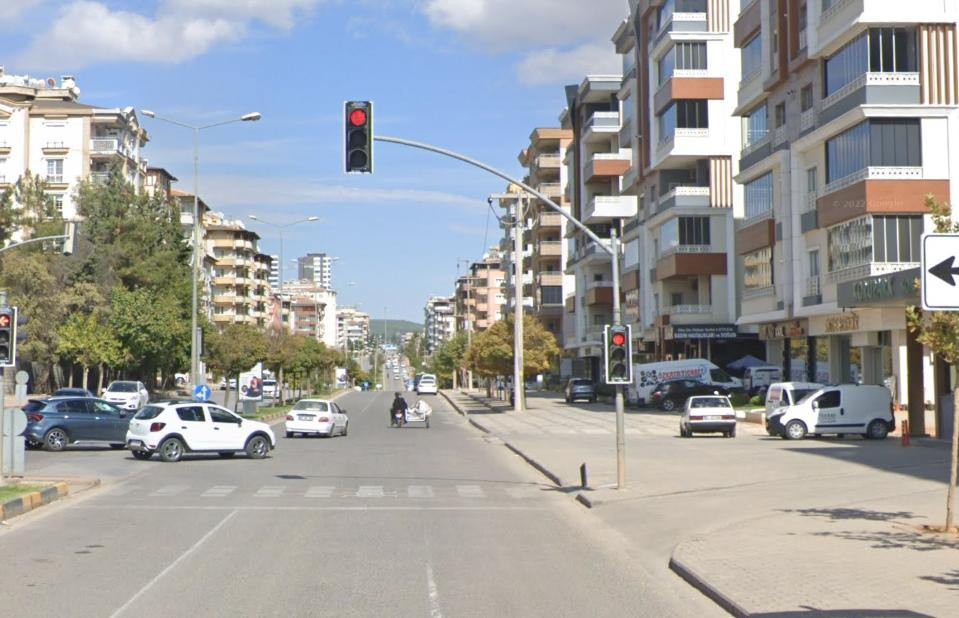redlight: (344, 98, 372, 171), (609, 321, 631, 383), (0, 305, 15, 364)
